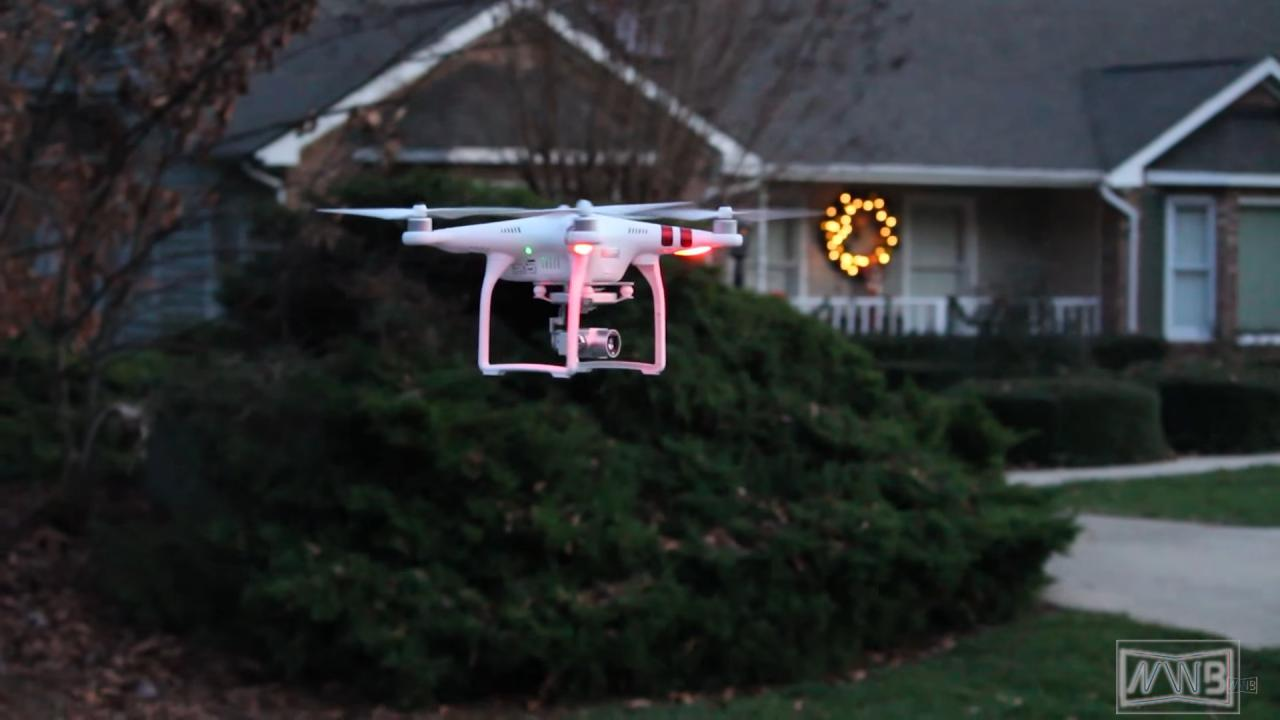Drone: (299, 168, 841, 398)
